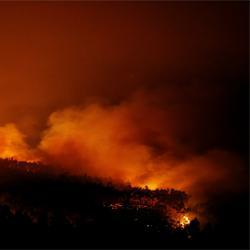fire: (177, 212, 197, 229), (148, 181, 158, 192)
